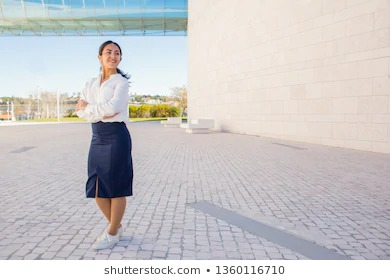F_shirt: (76, 72, 129, 131)
F_tailored skirt: (84, 118, 135, 198)
